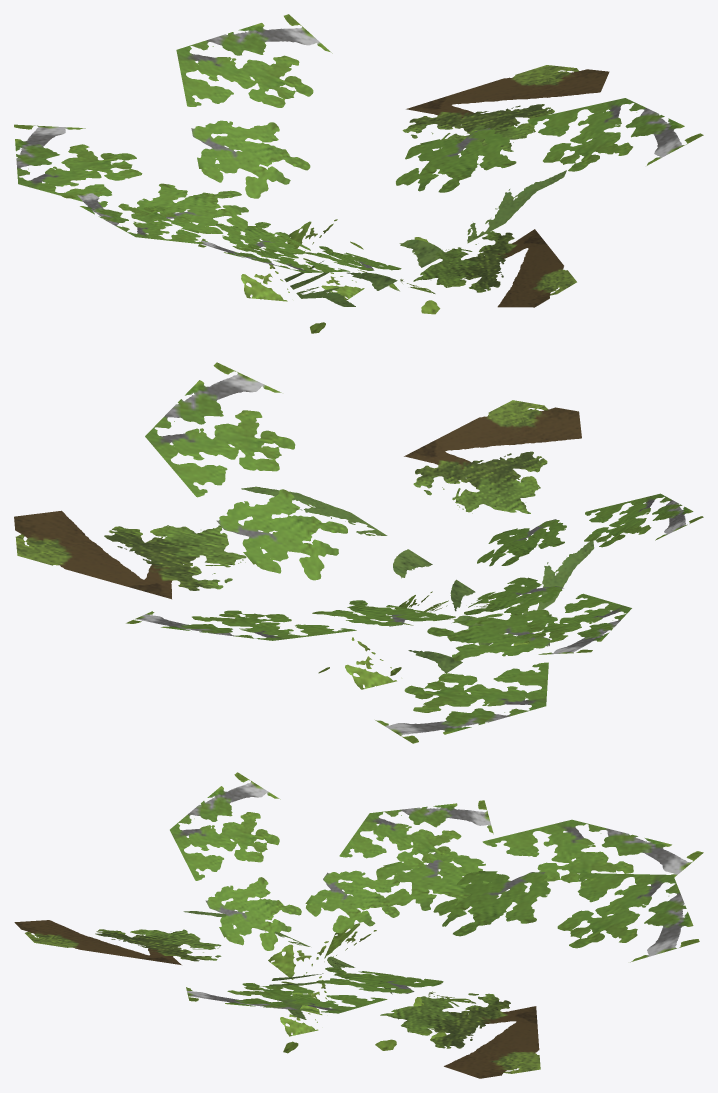
The model's file is Plante_03.fbx.
3 views of the same model, one above another, from view 1: azimuth 30°, elevation 25°; view 2: azimuth 150°, elevation 25°; view 3: azimuth 270°, elevation 25° (orthographic). The views are drawn at different scales.
Parts seen in each view (by area): view 1: Plante_03; view 2: Plante_03; view 3: Plante_03.
Boxes of the visible parts, bbox=[...] form: Plante_03: bbox=[14, 14, 703, 333]; Plante_03: bbox=[14, 362, 703, 743]; Plante_03: bbox=[14, 772, 703, 1078].
Bounding box in the file's own units: 2.07 × 0.5759 × 2.23.
